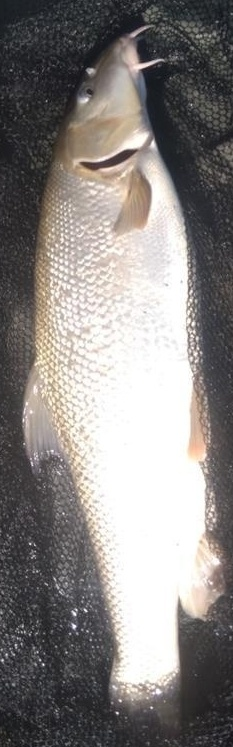Barbus barbus: (20, 20, 213, 727)
